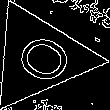O_SE: (2, 24, 77, 90)
